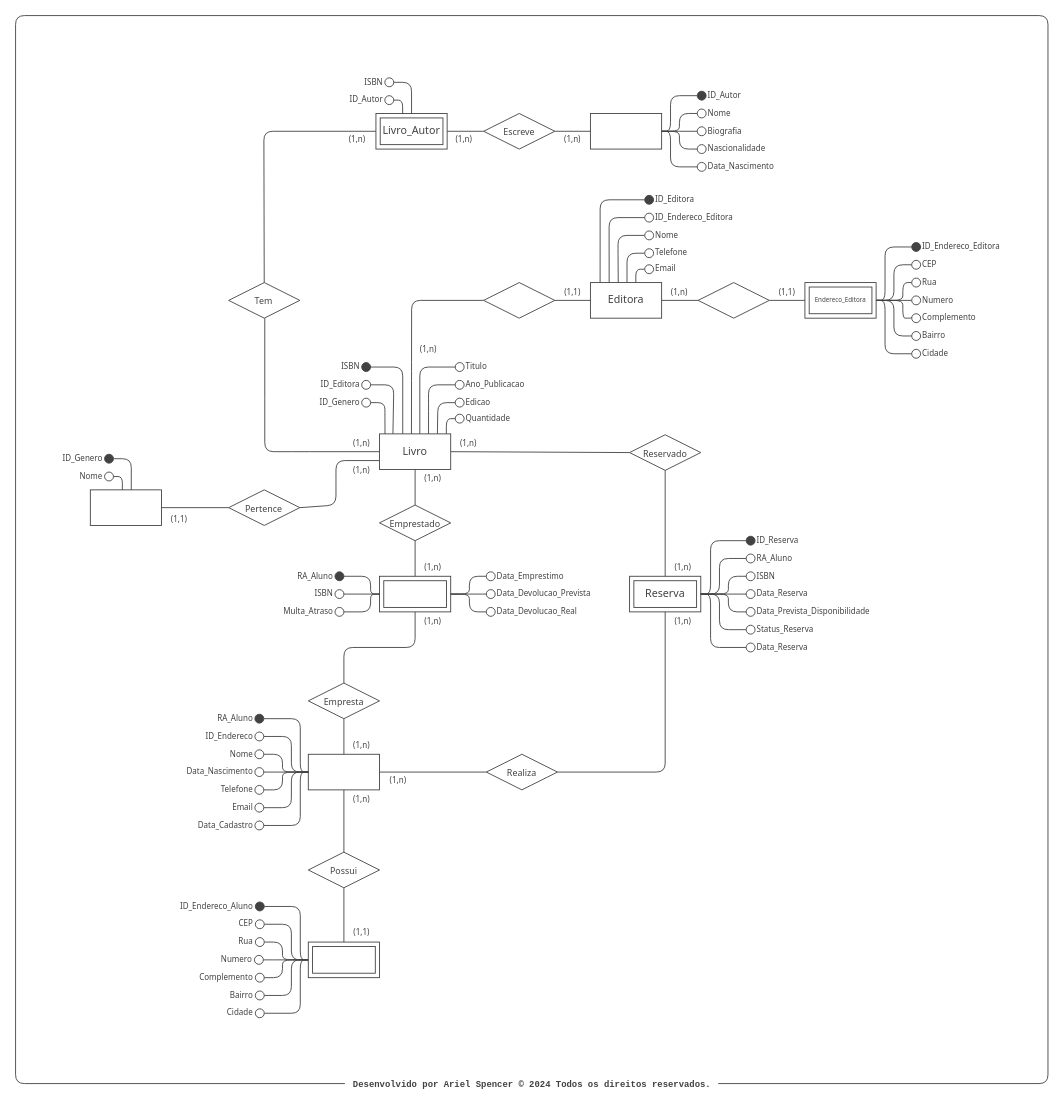
Image size: 1064x1117. Some labels were removed from this diagram. Here are the shapes that lost their labels. From the top down, the box of each, then its label:
(590, 113, 662, 149): Autor
(483, 282, 555, 318): Publica
(697, 282, 769, 318): Localizada
(89, 489, 162, 525): Genero
(383, 580, 447, 607): Aluno_Livro
(307, 753, 379, 790): Aluno
(312, 946, 375, 973): Endereco_Aluno
